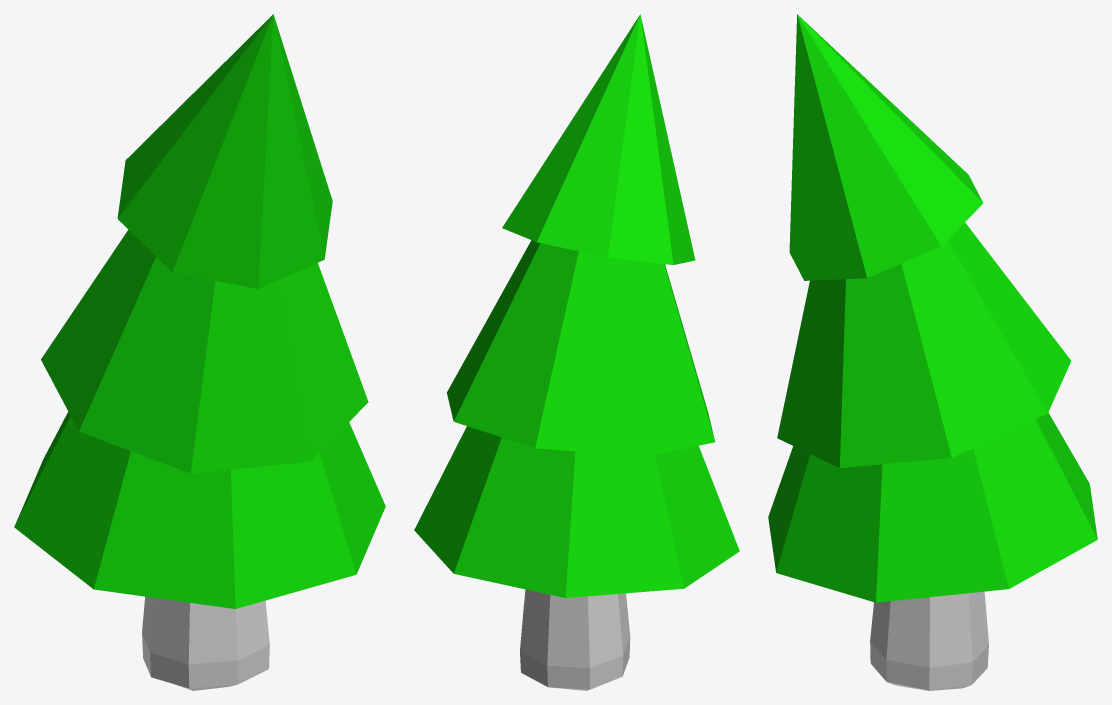
File: arvore 2.fbx
3 views of the same model, side by side, from view 1: azimuth 30°, elevation 25°; view 2: azimuth 150°, elevation 25°; view 3: azimuth 270°, elevation 25° (orthographic). The views are drawn at different scales.
Parts seen in each view (by area): view 1: Cone, Plane; view 2: Cone, Plane; view 3: Cone, Plane.
Part boxes in pixels (box(x1,y1,x2,y2)): Cone: box(14, 14, 385, 608); Plane: box(142, 596, 269, 690); Cone: box(414, 14, 739, 597); Plane: box(520, 589, 630, 690); Cone: box(768, 14, 1097, 602); Plane: box(870, 591, 988, 690).
Bounding box in the file's own units: 189 × 416 × 188.
